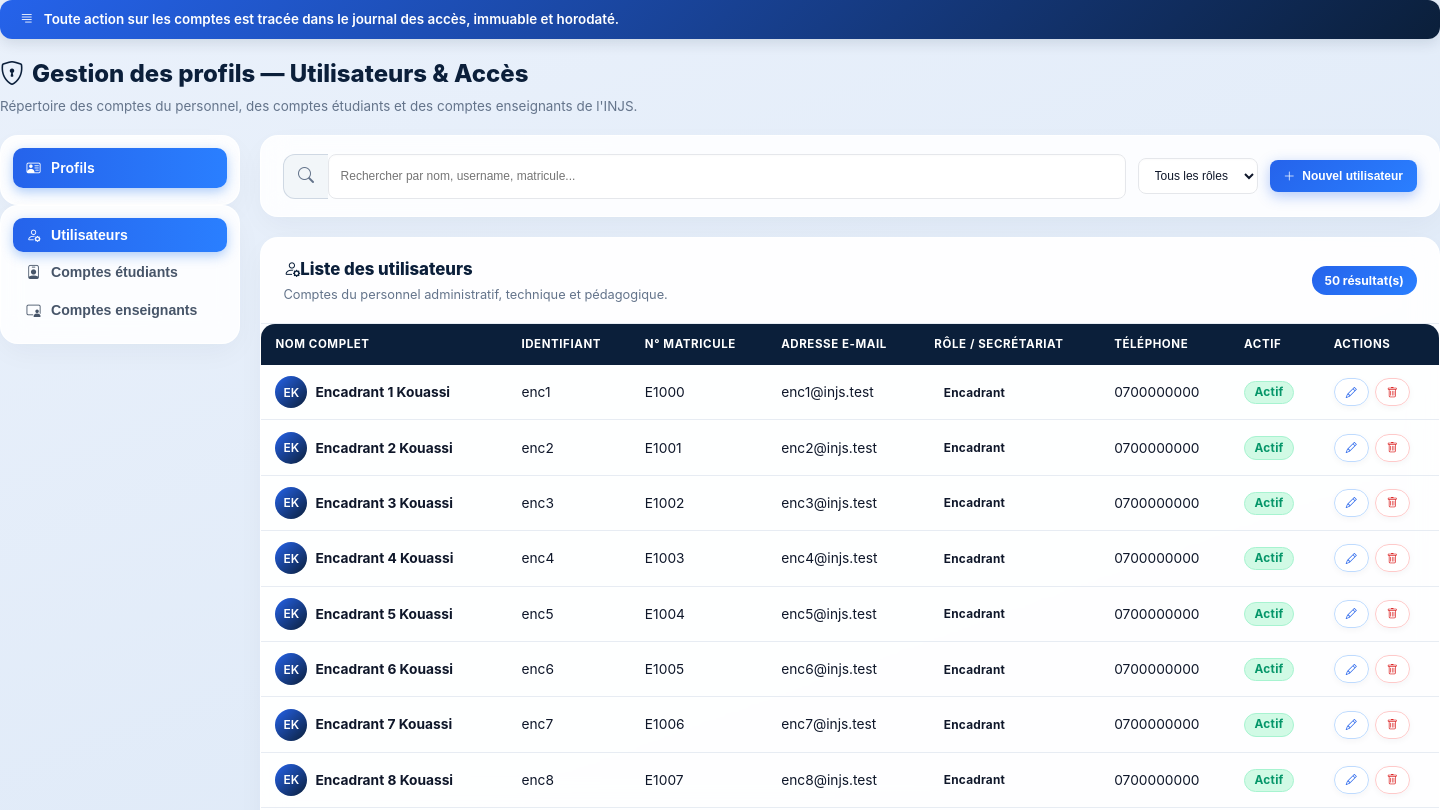
Test: pages/Users.jsx — liste serveur (recherche, filtres, onglets, pagination) › affiche les erreurs de validation renvoyées par le serveur sans fermer la modale
Step 1. Click the button "Nouvel utilisateur" → [1343, 176], box [1270, 160, 1417, 192]
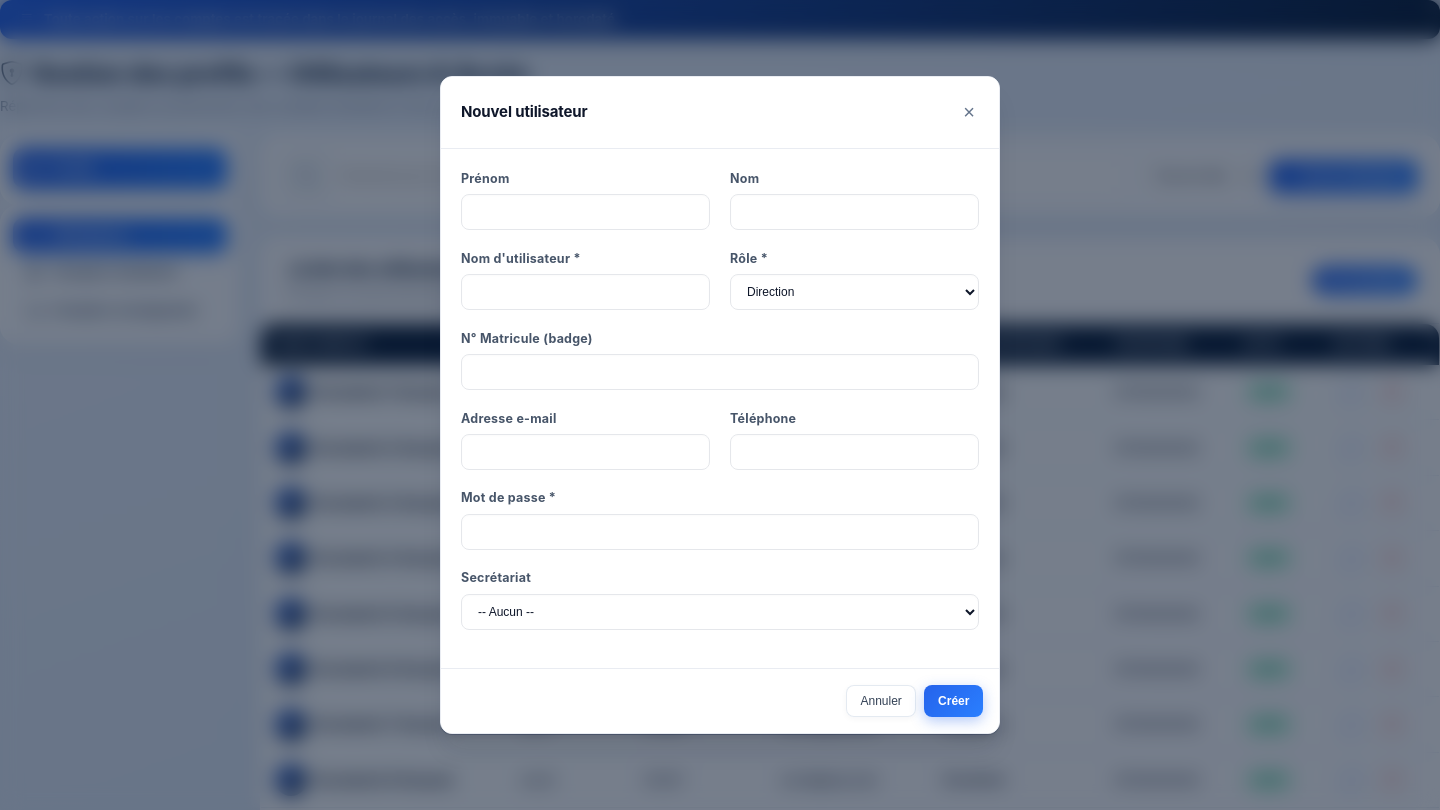
Step 2. Type "doublon" into the field below "Nom d'utilisateur *" → [586, 292], box [461, 274, 710, 310]
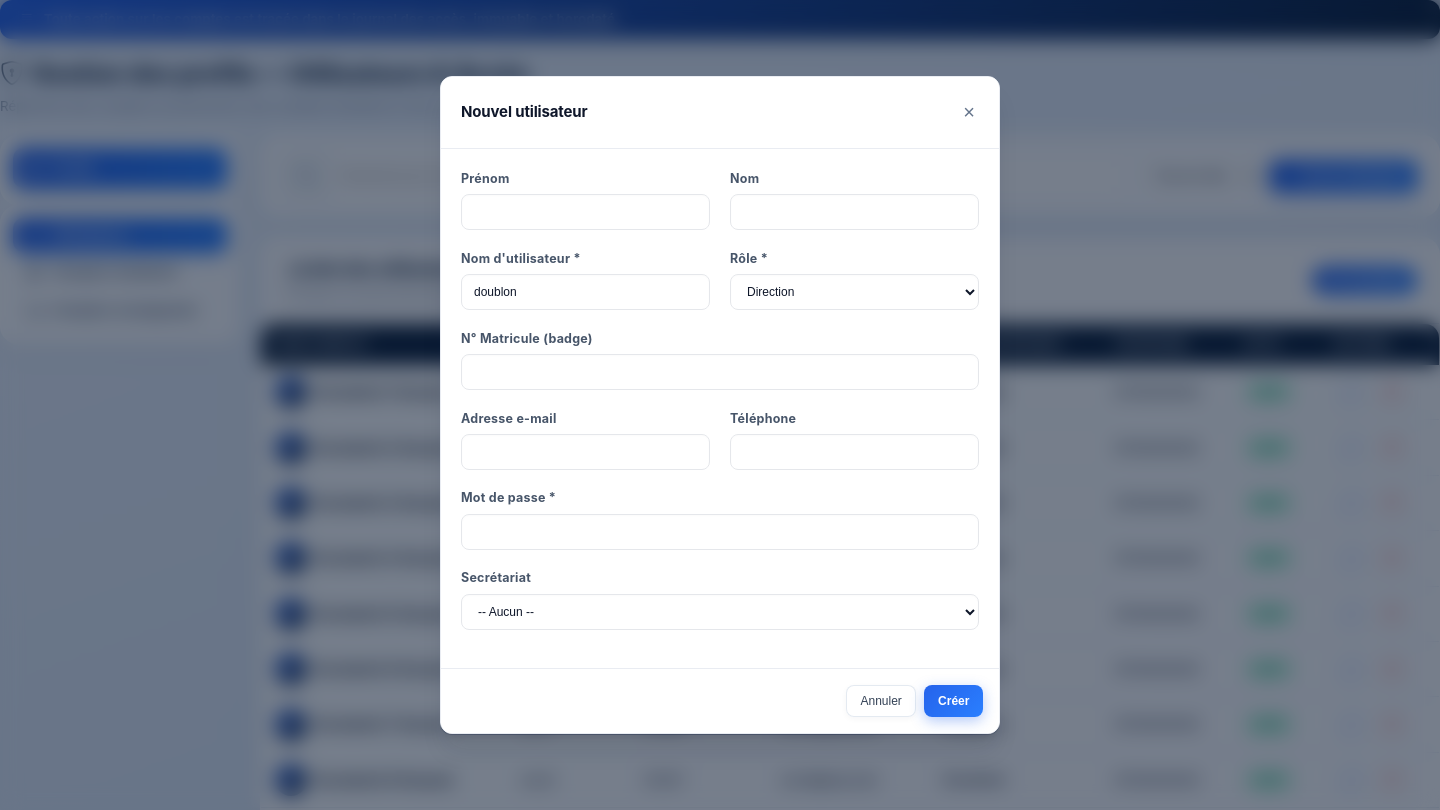
Step 3. Type "Secret-123" into the password field → [720, 532], box [461, 514, 979, 550]
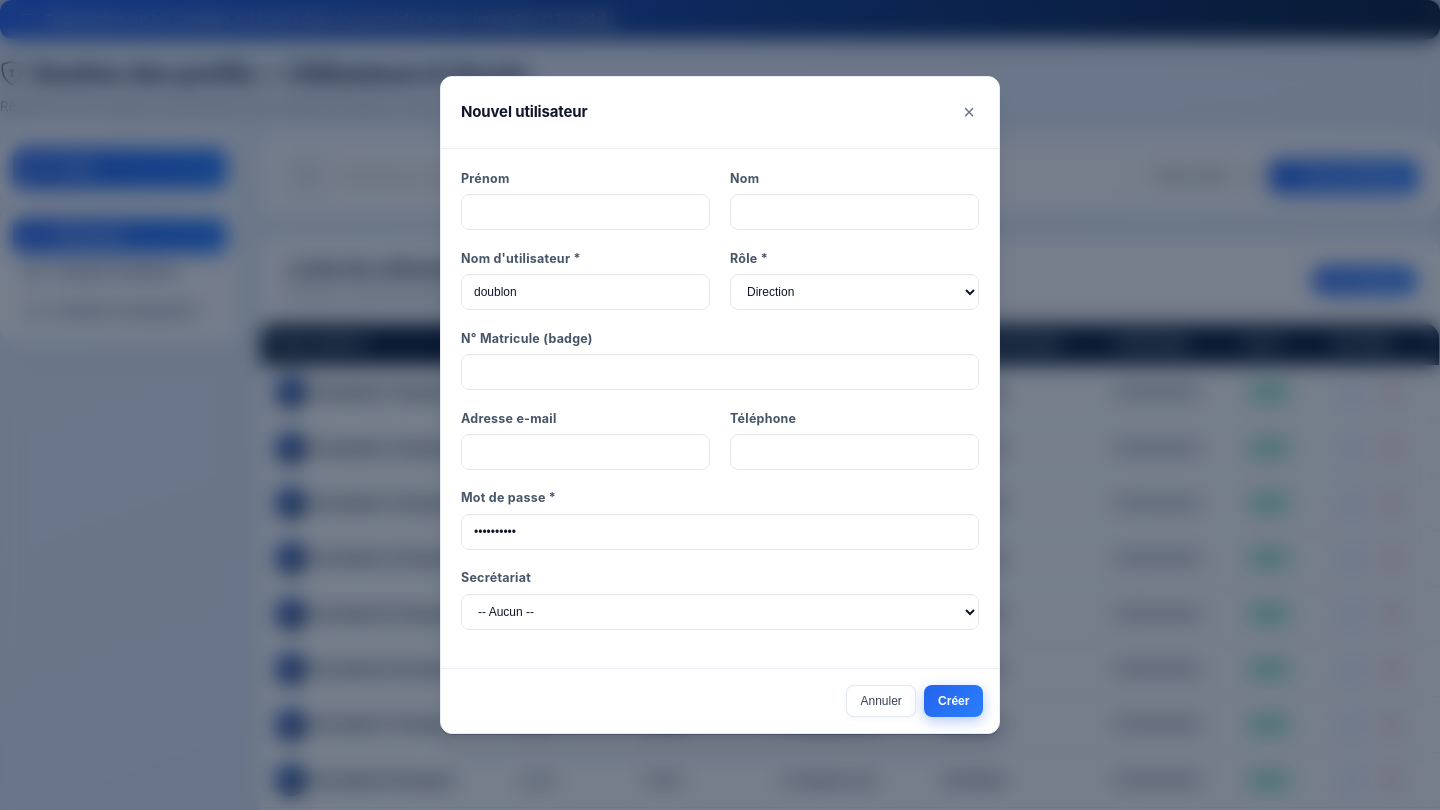
Step 4. Click the button "Créer" → [954, 701], box [924, 685, 983, 717]
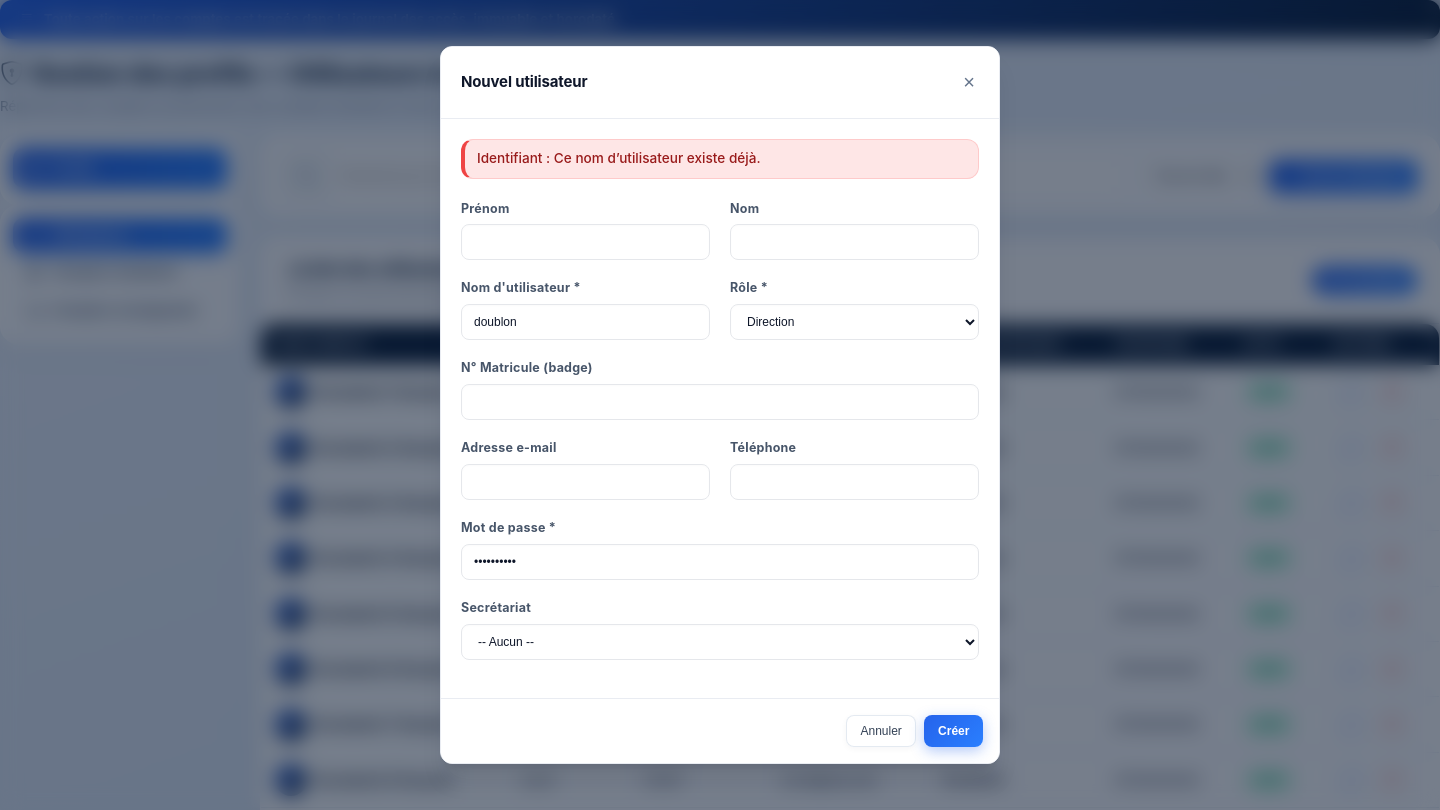
Expected: the heading "Nouvel utilisateur" is shown, [461, 70, 587, 94]
Expected: the text "Identifiant : Ce nom d’utilisateur existe déjà." is shown, [461, 139, 979, 179]
